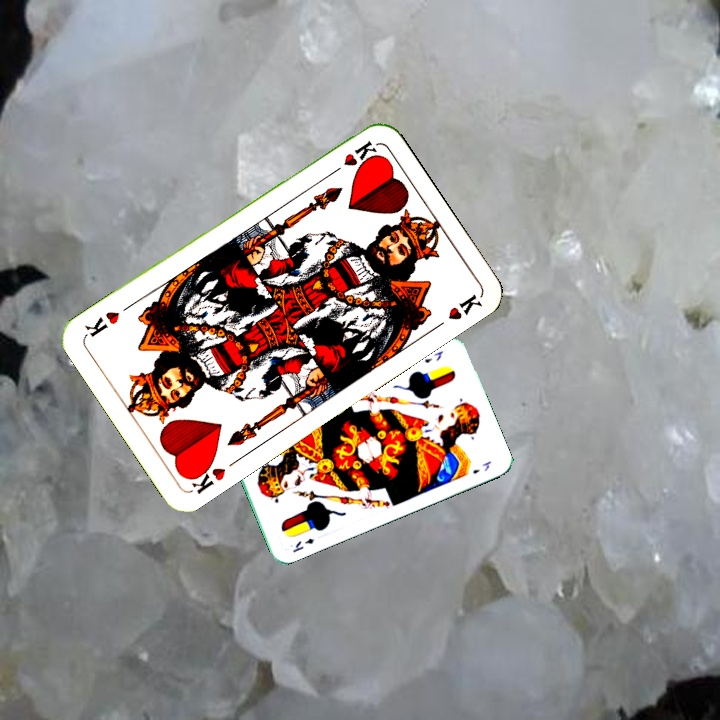EK: (289, 534, 317, 555), (420, 347, 446, 366)
HK: (325, 136, 380, 179), (182, 456, 229, 497)
